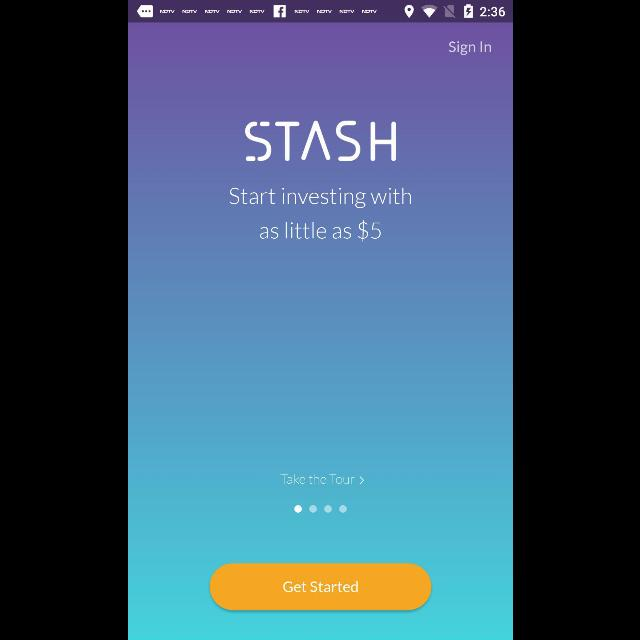image: (244, 120, 396, 162)
pageindicator: (294, 504, 346, 514)
text: (228, 188, 410, 242), (280, 473, 364, 485), (448, 42, 490, 56)
textbutton: (209, 563, 431, 611)
uppertaskbar: (128, 1, 512, 23)
